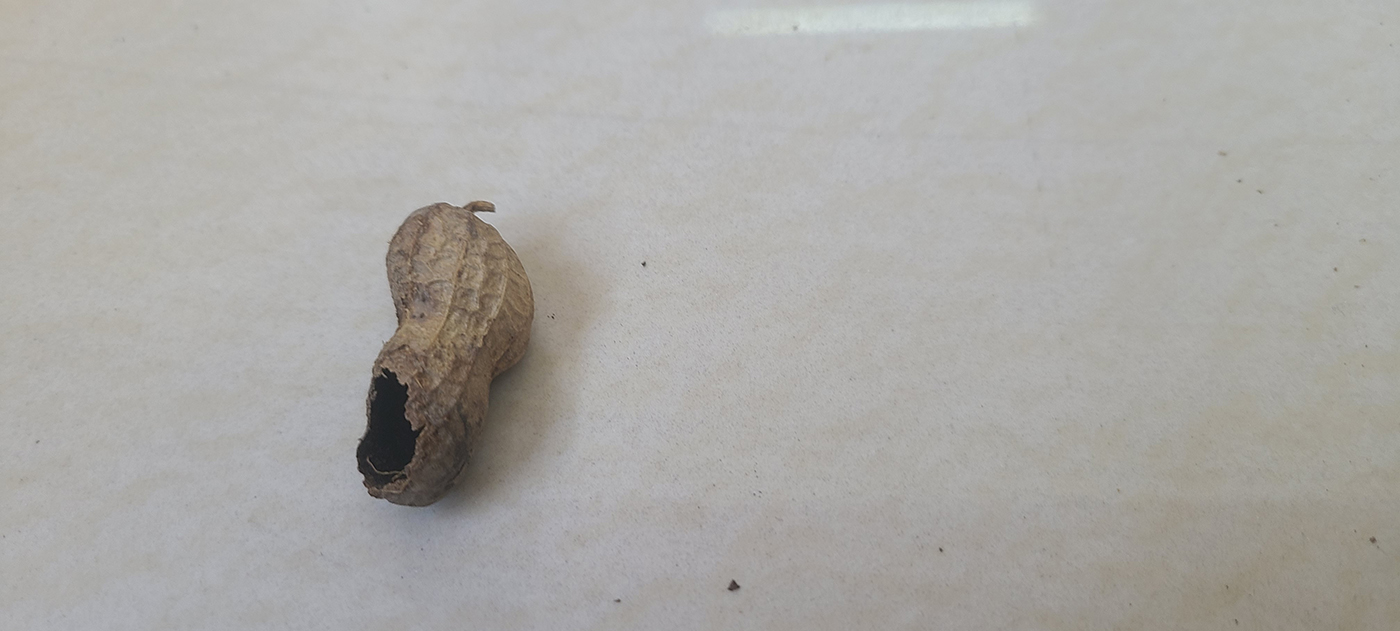l: (356, 204, 538, 507)
